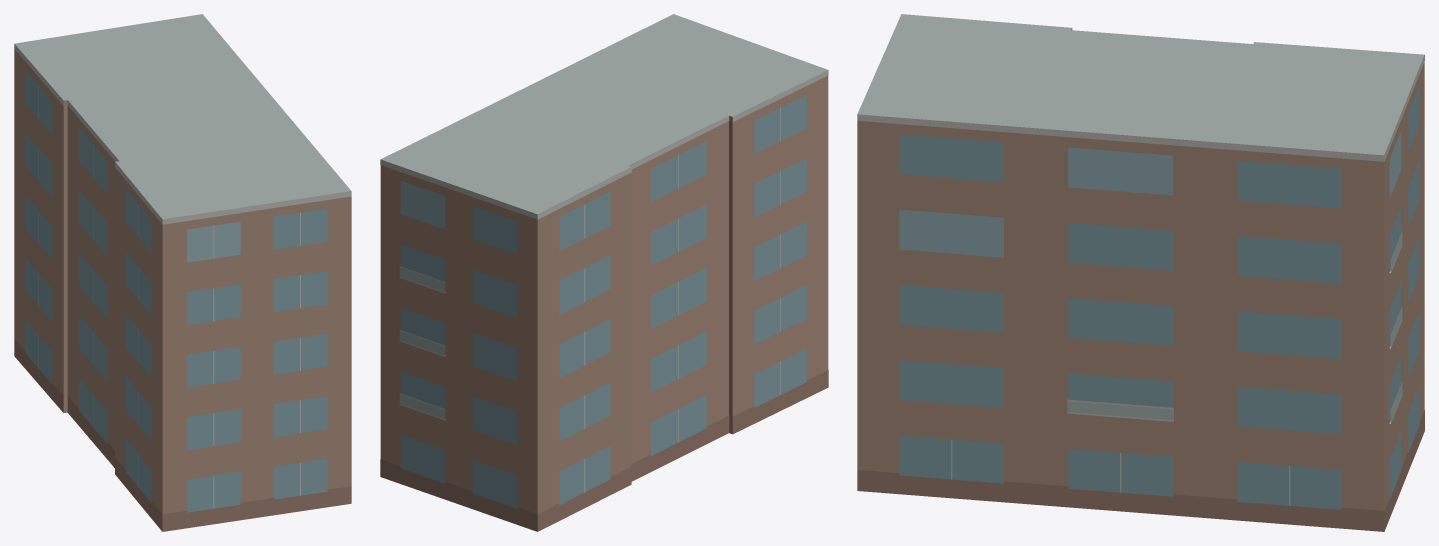
The model's file is survey-upis-32707747.glb.
The picture shows the model from 3 angles, left to right: view 1: azimuth 30°, elevation 25°; view 2: azimuth 150°, elevation 25°; view 3: azimuth 270°, elevation 25°; orthographic projection. The views are drawn at different scales.
Visible parts, largest first — view 1: survey-upis-32707747.tmp; view 2: survey-upis-32707747.tmp; view 3: survey-upis-32707747.tmp.
Part boxes in pixels (x1,y1,x2,y2): survey-upis-32707747.tmp: (14,14,351,531); survey-upis-32707747.tmp: (380,14,828,531); survey-upis-32707747.tmp: (857,14,1424,531).
Size of the model in its own units: 11.53 by 14.3 by 19.54.
